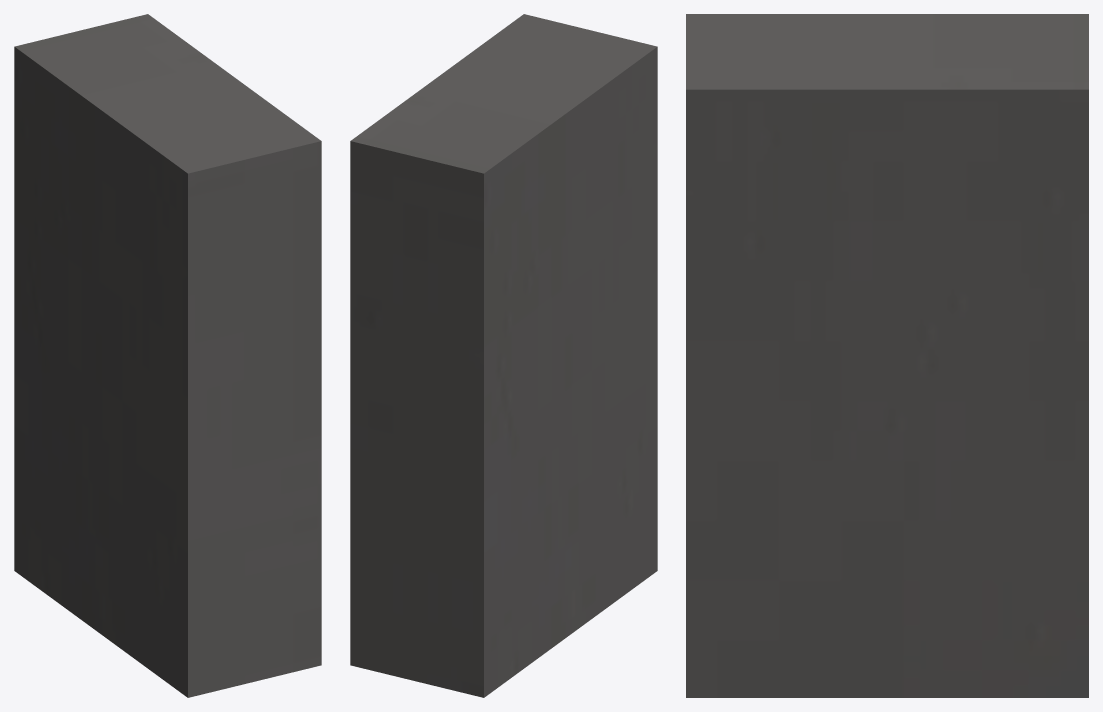
Rendered from tabletop__left_hinge_bracket.glb.
3 views of the same model, side by side, from view 1: azimuth 30°, elevation 25°; view 2: azimuth 150°, elevation 25°; view 3: azimuth 270°, elevation 25° (orthographic). The views are drawn at different scales.
Parts seen in each view (by area): view 1: world; view 2: world; view 3: world.
Boxes of the visible parts, x1,y1,x2,y2 form: world: (14, 14, 321, 697); world: (350, 14, 657, 697); world: (686, 14, 1088, 697).
Bounding box in the file's own units: 0.04 × 0.15 × 0.09.
Materials: 1 (1 with a texture image).
